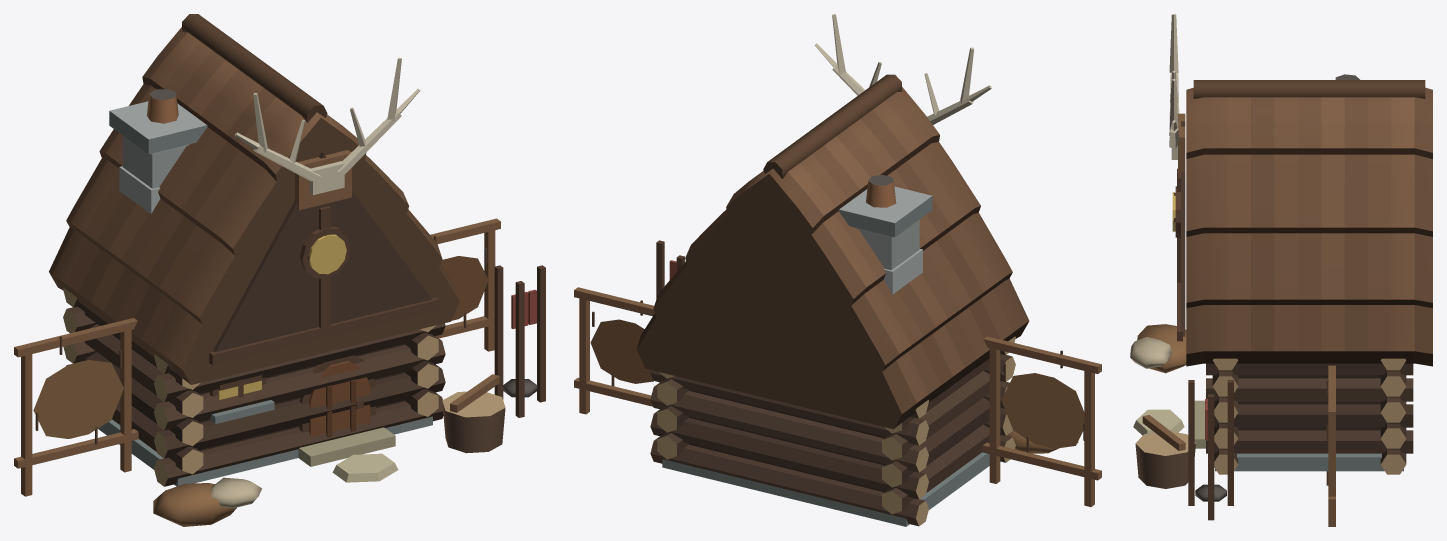
File: hunter.glb
3 views of the same model, side by side, from view 1: azimuth 30°, elevation 25°; view 2: azimuth 150°, elevation 25°; view 3: azimuth 270°, elevation 25° (orthographic). The views are drawn at different scales.
Parts seen in each view (by area): view 1: body, body_nl; view 2: body; view 3: body, body_nl.
Part boxes in pixels (x1,y1,x2,y2): body: (14,14,545,496); body_nl: (153,477,261,526); body: (574,14,1101,526); body: (1133,14,1432,526); body_nl: (1130,324,1186,373).
Size of the model in its own units: 3.64 by 2.73 by 2.
